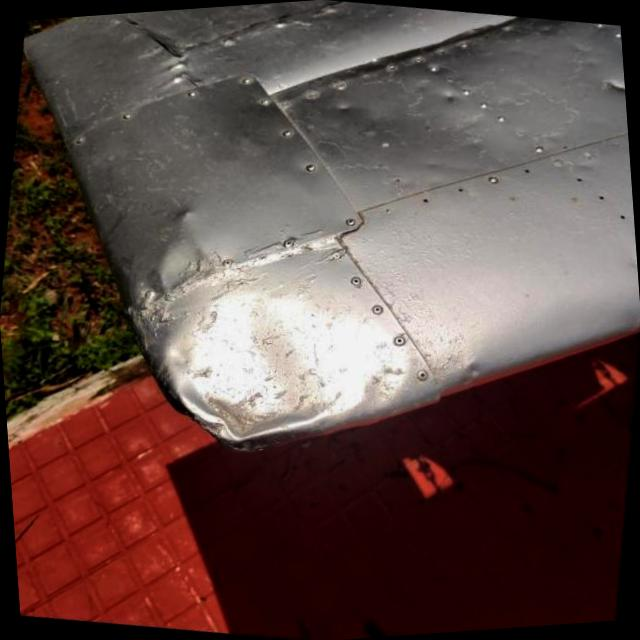dent: (142, 247, 386, 455), (142, 218, 204, 294), (584, 75, 626, 110), (461, 348, 486, 382)
